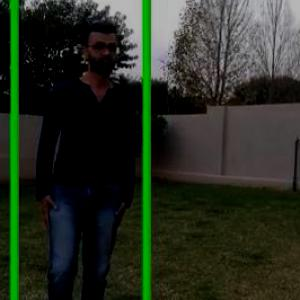follow: (30, 16, 139, 299)
